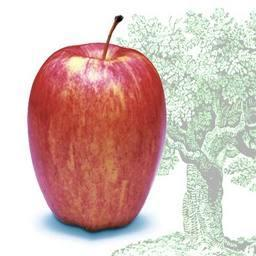apple: (27, 41, 167, 231)
